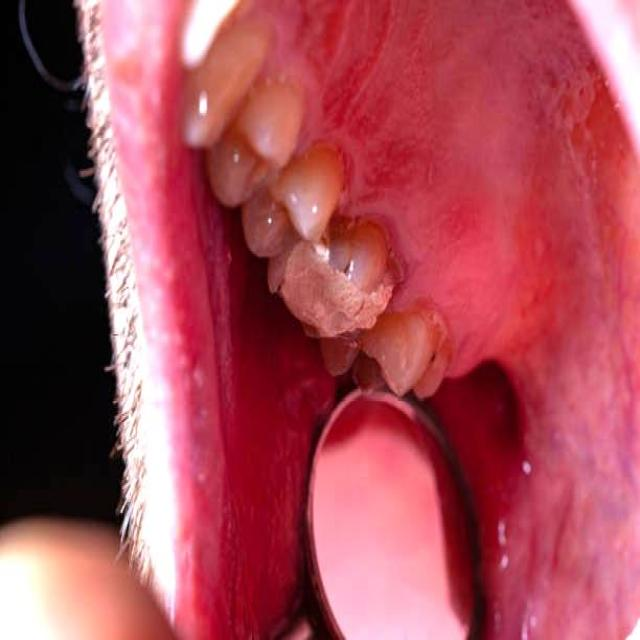caries: (275, 258, 390, 347)
